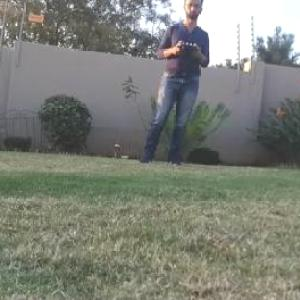follow: (130, 0, 214, 171)
